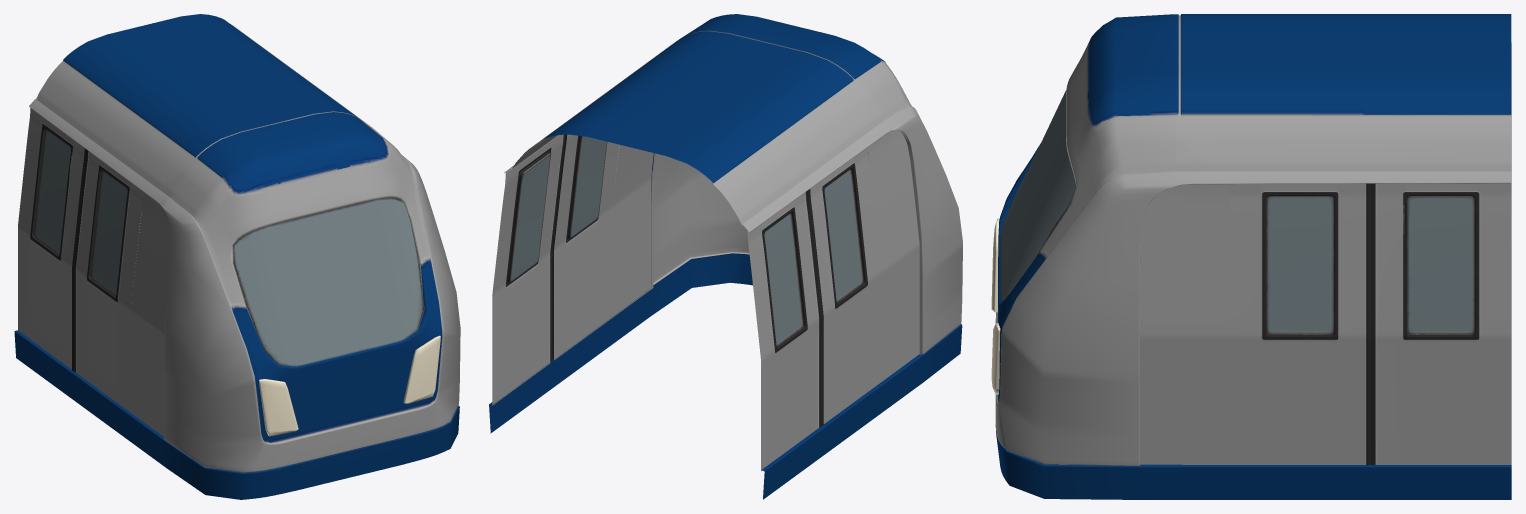
File: trem.fbx
The picture shows the model from 3 angles, left to right: view 1: azimuth 30°, elevation 25°; view 2: azimuth 150°, elevation 25°; view 3: azimuth 270°, elevation 25°; orthographic projection. The views are drawn at different scales.
Visible parts, largest first — view 1: Trem, Trem_Portas; view 2: Trem, Trem_Portas; view 3: Trem, Trem_Portas.
Part boxes in pixels (bbox=[...]): Trem: bbox=[14, 14, 460, 499]; Trem_Portas: bbox=[18, 108, 440, 436]; Trem: bbox=[489, 14, 962, 499]; Trem_Portas: bbox=[492, 130, 919, 470]; Trem: bbox=[995, 14, 1511, 499]; Trem_Portas: bbox=[991, 43, 1511, 465].
Size of the model in its own units: 242 by 268 by 337.
